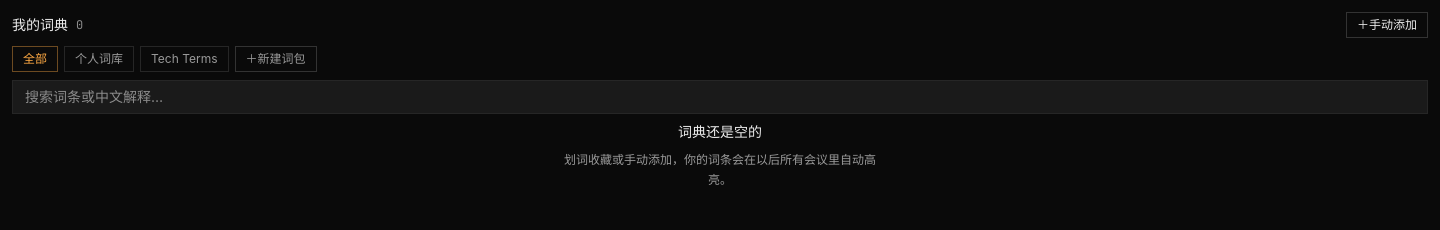
Test: GlossaryPanel — v0.5 Wave-1 Feature 8 pack UI smoke › a non-personal pack's management row still shows the enable-toggle and rename (only personal is fixed)
Click the button "Tech Terms" at (184, 59), box 140,46 -> 228,72
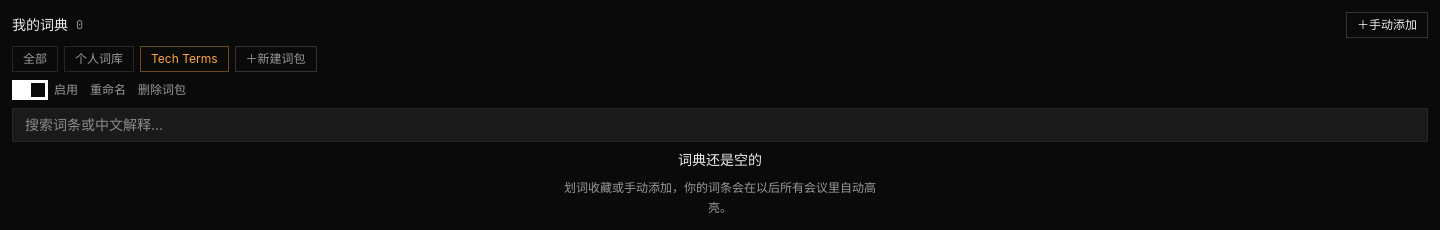
Expected: the switch named "启用词包 Tech Terms" is shown, 12,80 -> 48,100
Expected: the button "重命名" is shown, 90,82 -> 126,98
